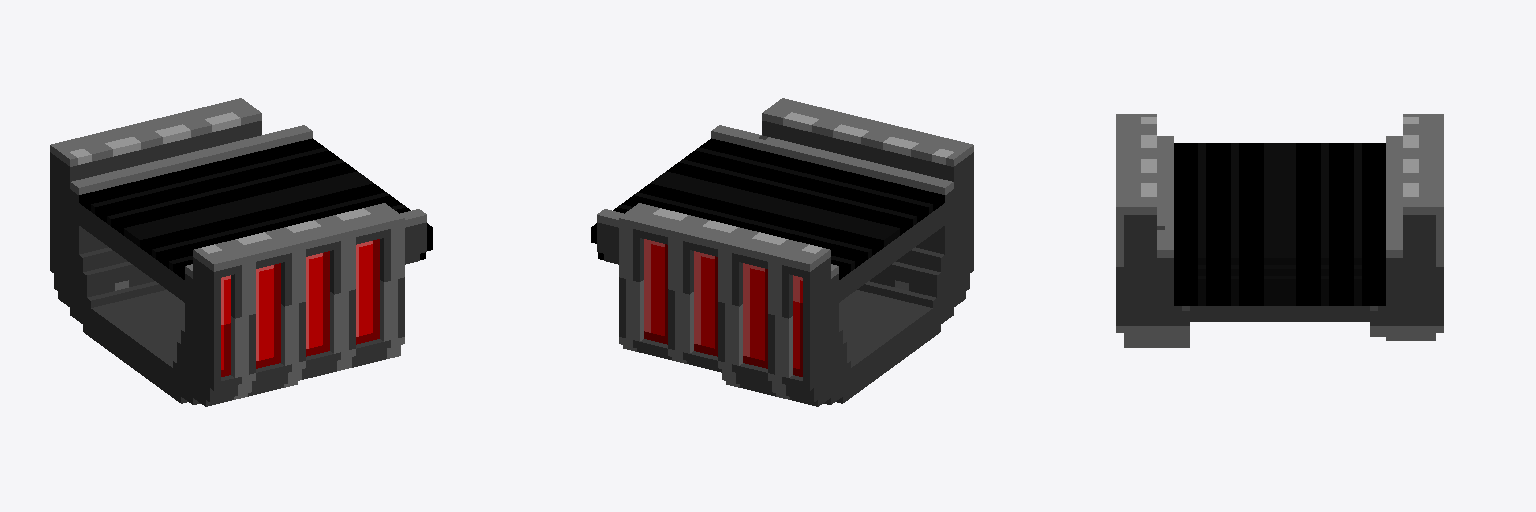
3 views of the same model, side by side, from view 1: azimuth 30°, elevation 25°; view 2: azimuth 150°, elevation 25°; view 3: azimuth 270°, elevation 25° (orthographic).
Parts seen in each view (by area): view 1: object 1; view 2: object 1; view 3: object 1.
Boxes of the visible parts, <box> form: object 1: <box>50,98,432,406</box>; object 1: <box>591,98,973,406</box>; object 1: <box>1116,114,1443,347</box>.
Bounding box in the file's own units: 3.5 × 2.2 × 4.
1 materials, 1 textured.